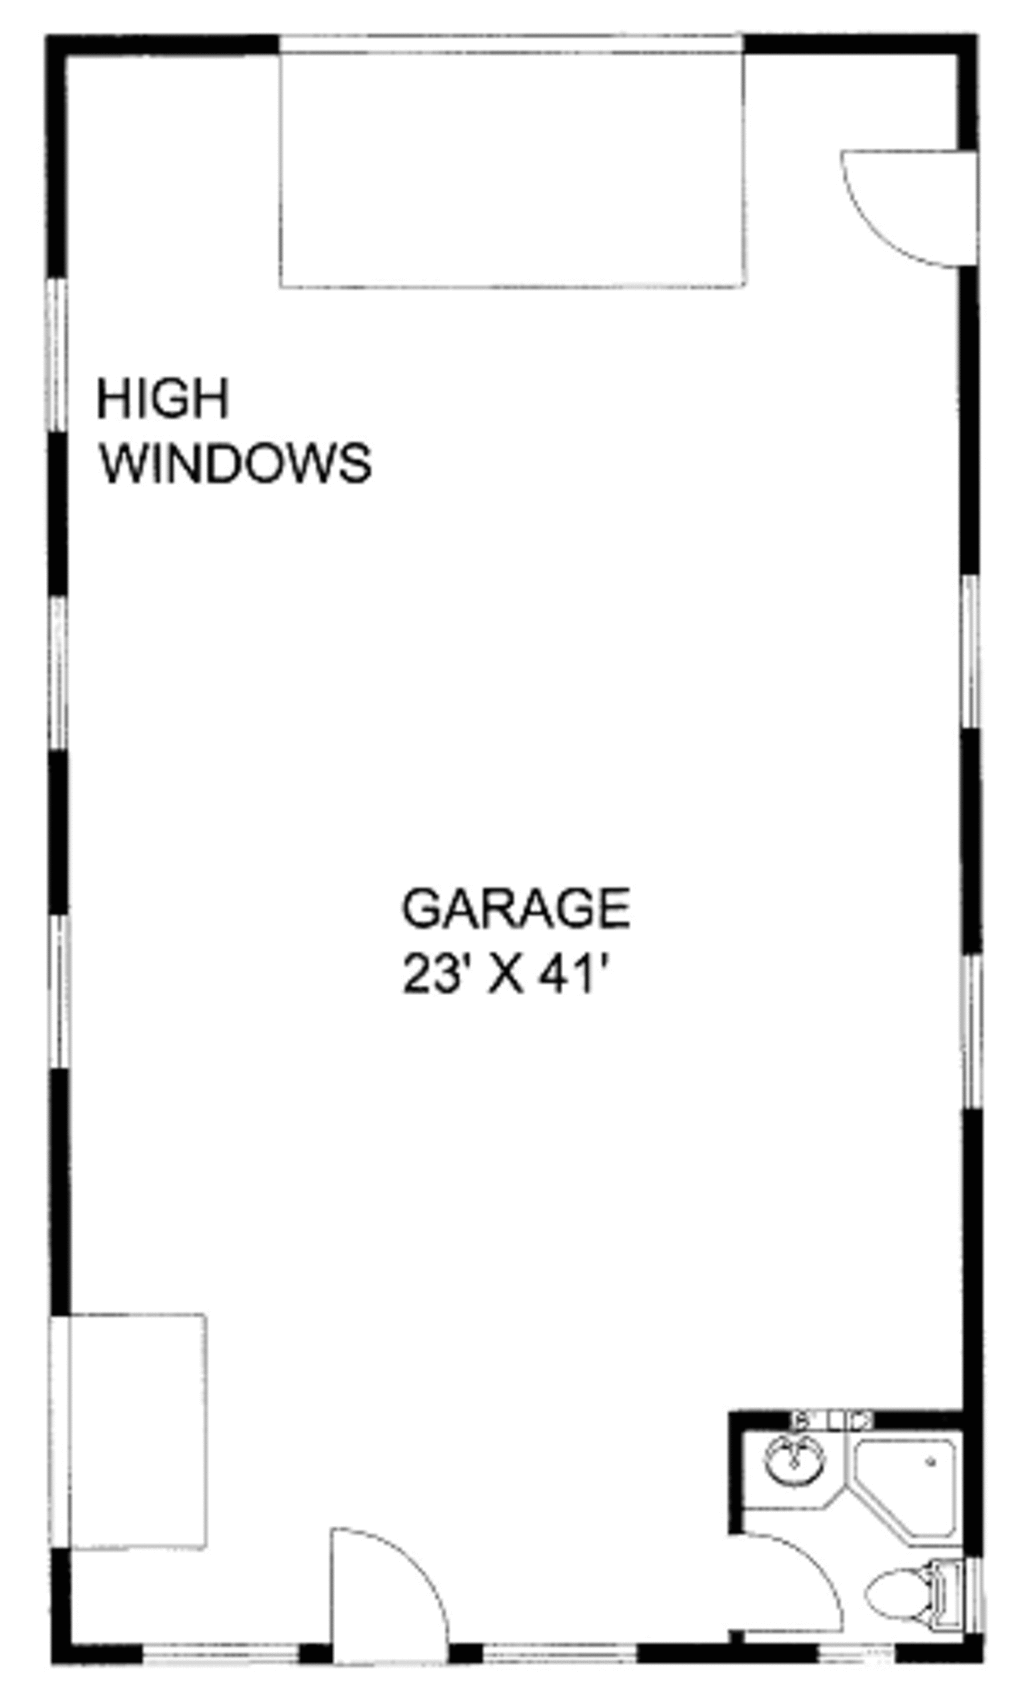door: (824, 139, 997, 273), (737, 1535, 847, 1634)
large_sink: (866, 1555, 989, 1648)
small_sink: (737, 1423, 847, 1505)
window: (939, 944, 1018, 1151), (34, 586, 100, 765), (36, 905, 97, 1084), (944, 552, 1005, 727), (137, 1626, 309, 1673), (34, 271, 79, 443), (476, 1634, 647, 1673), (813, 1637, 896, 1668)
